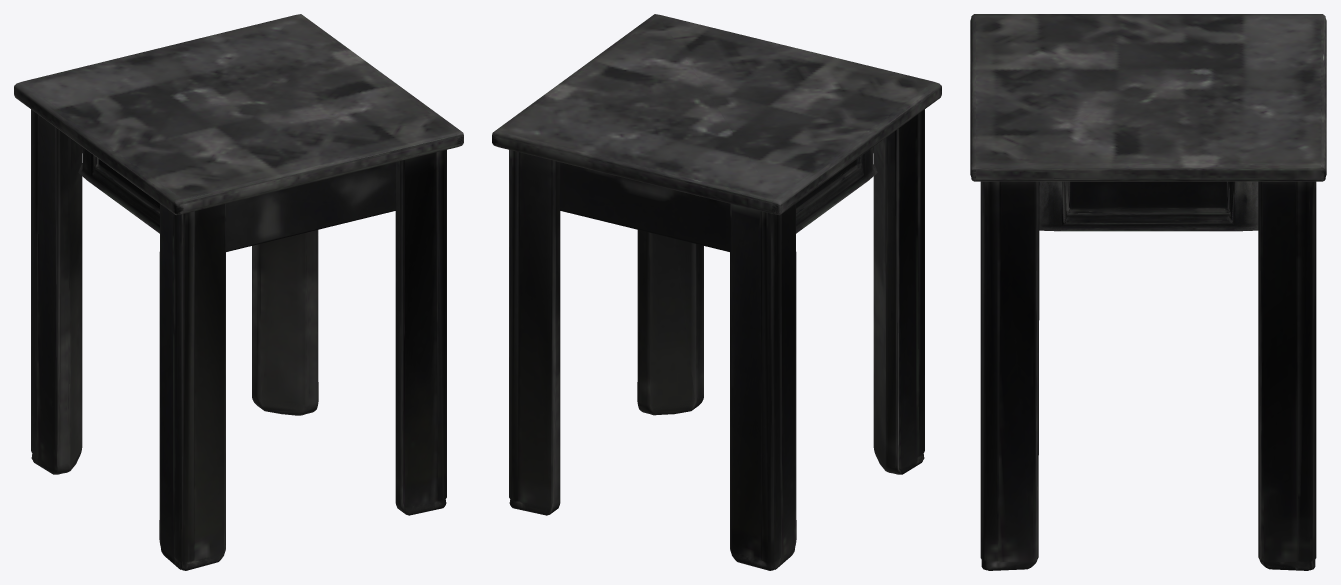
File: Table_End_Brown_Faux_20InchesTall_0222191641_texture.glb
3 renders of one model, left to right at view 1: azimuth 30°, elevation 25°; view 2: azimuth 150°, elevation 25°; view 3: azimuth 270°, elevation 25°, orthographic. The views are drawn at different scales.
Parts seen in each view (by area): view 1: Mesh_0.001; view 2: Mesh_0.001; view 3: Mesh_0.001.
Part boxes in pixels (x1,y1,x2,y2): Mesh_0.001: (14, 14, 463, 570); Mesh_0.001: (492, 14, 941, 570); Mesh_0.001: (970, 14, 1326, 570).
Bounding box in the file's own units: 0.4066 × 0.508 × 0.3982.
Materials: 1 (1 with a texture image).
